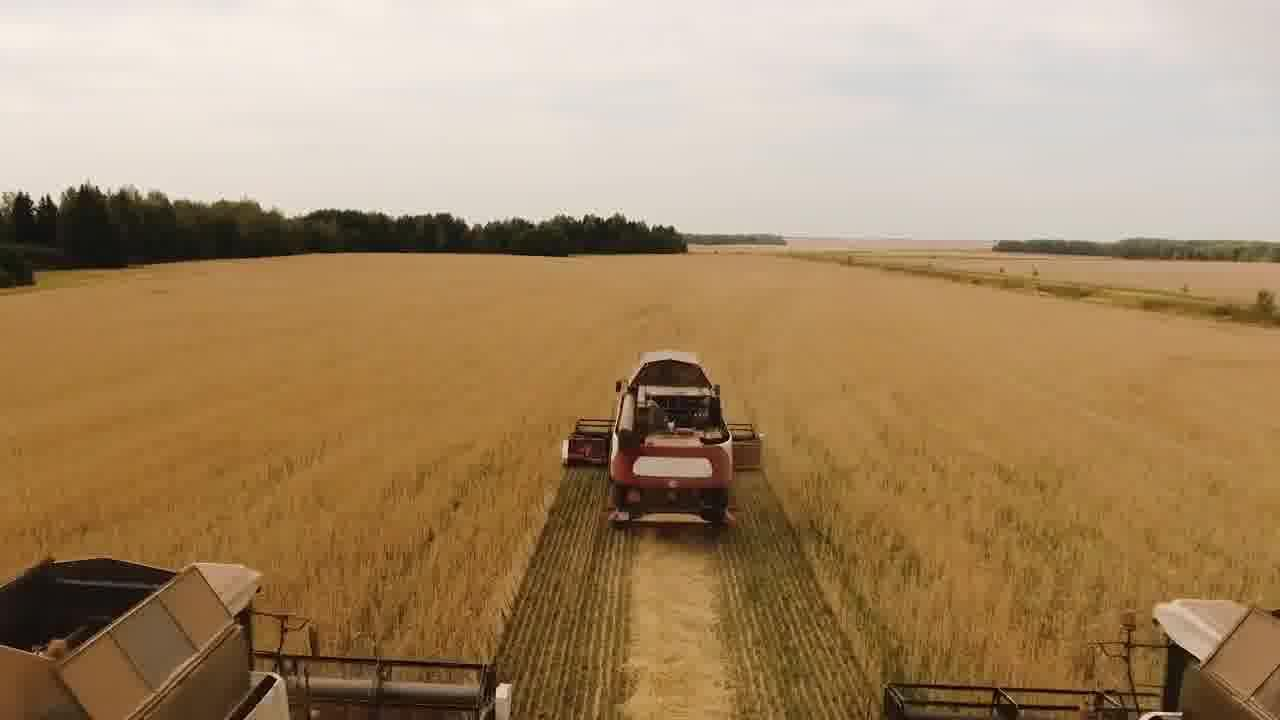combine harvester: (0, 540, 529, 720), (866, 568, 1280, 720), (556, 345, 770, 543)
